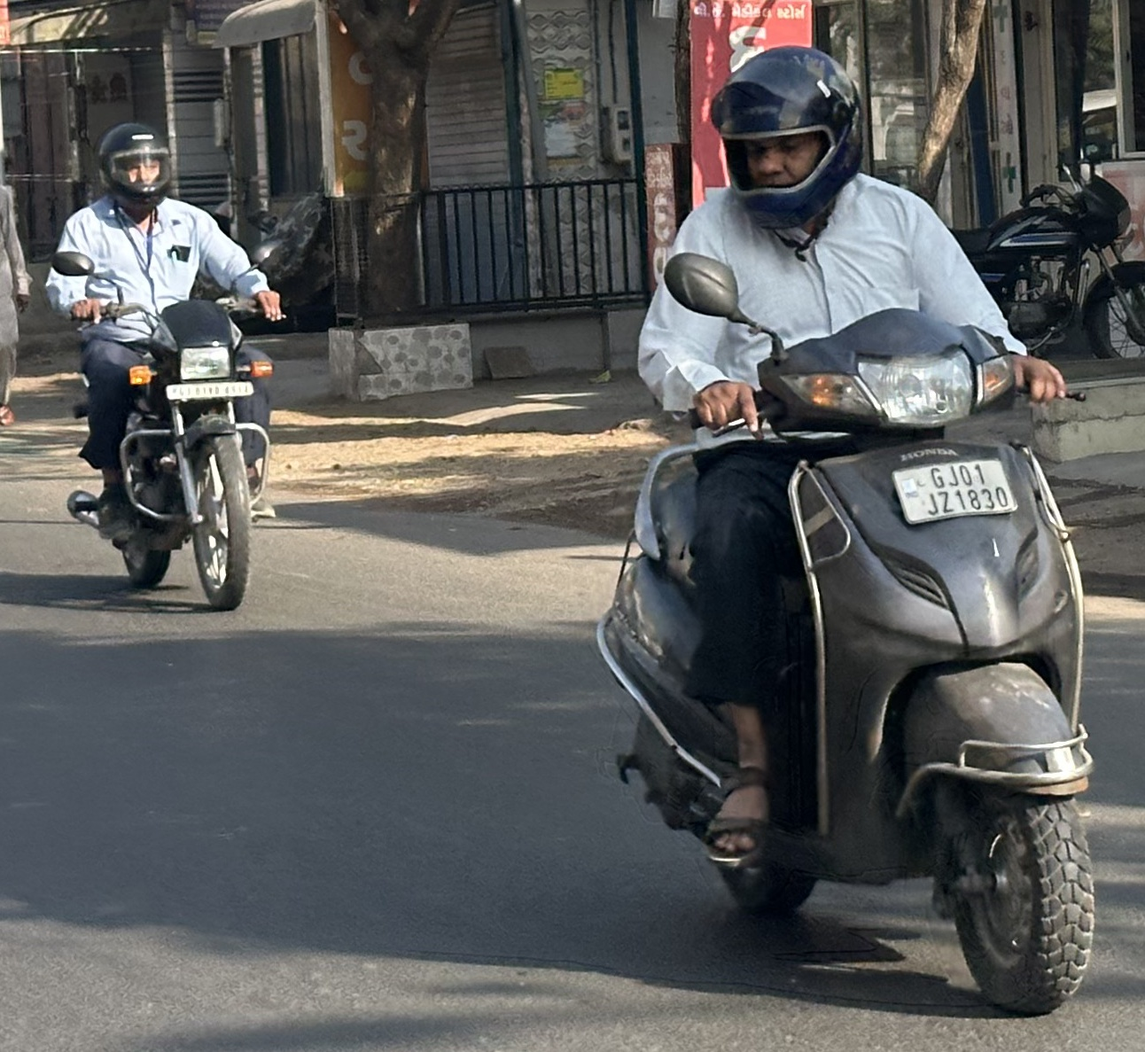BikeWithRider: (588, 43, 1102, 1014), (40, 116, 287, 616)
Helmet: (702, 43, 868, 238), (90, 118, 182, 211)
